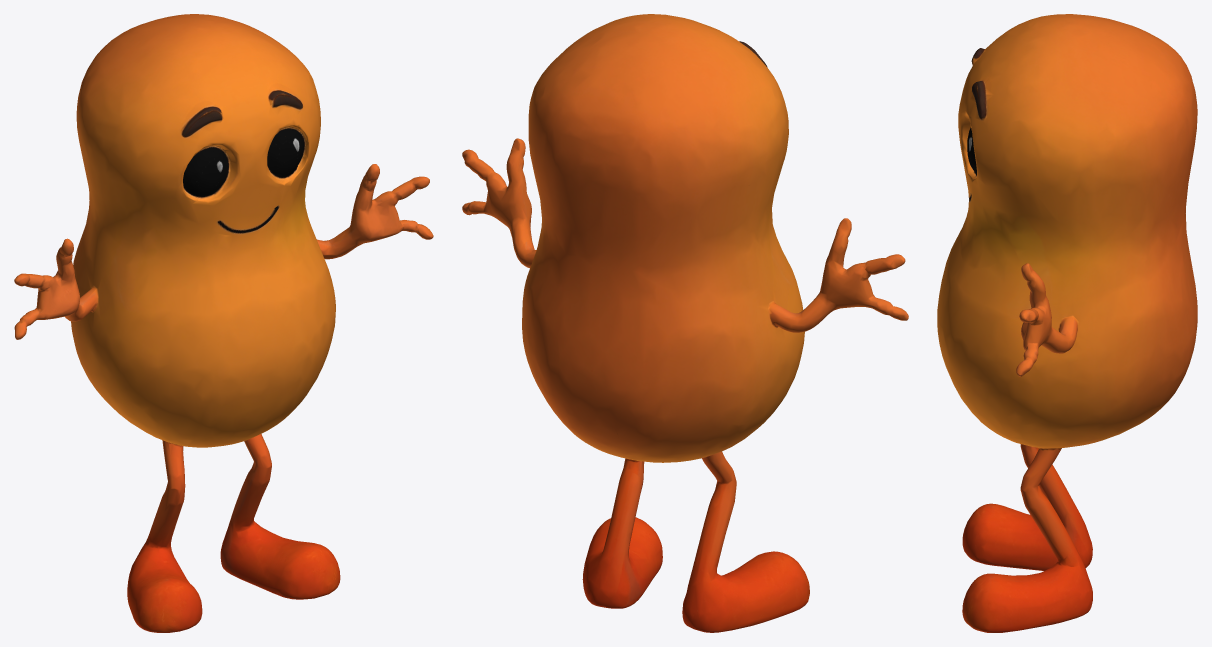
File: Char_Pepsin.glb
3 views of the same model, side by side, from view 1: azimuth 30°, elevation 25°; view 2: azimuth 150°, elevation 25°; view 3: azimuth 270°, elevation 25° (orthographic). The views are drawn at different scales.
Bounding box in the file's own units: 1.51 × 1.9 × 0.7983.
1 material, 1 textured.
